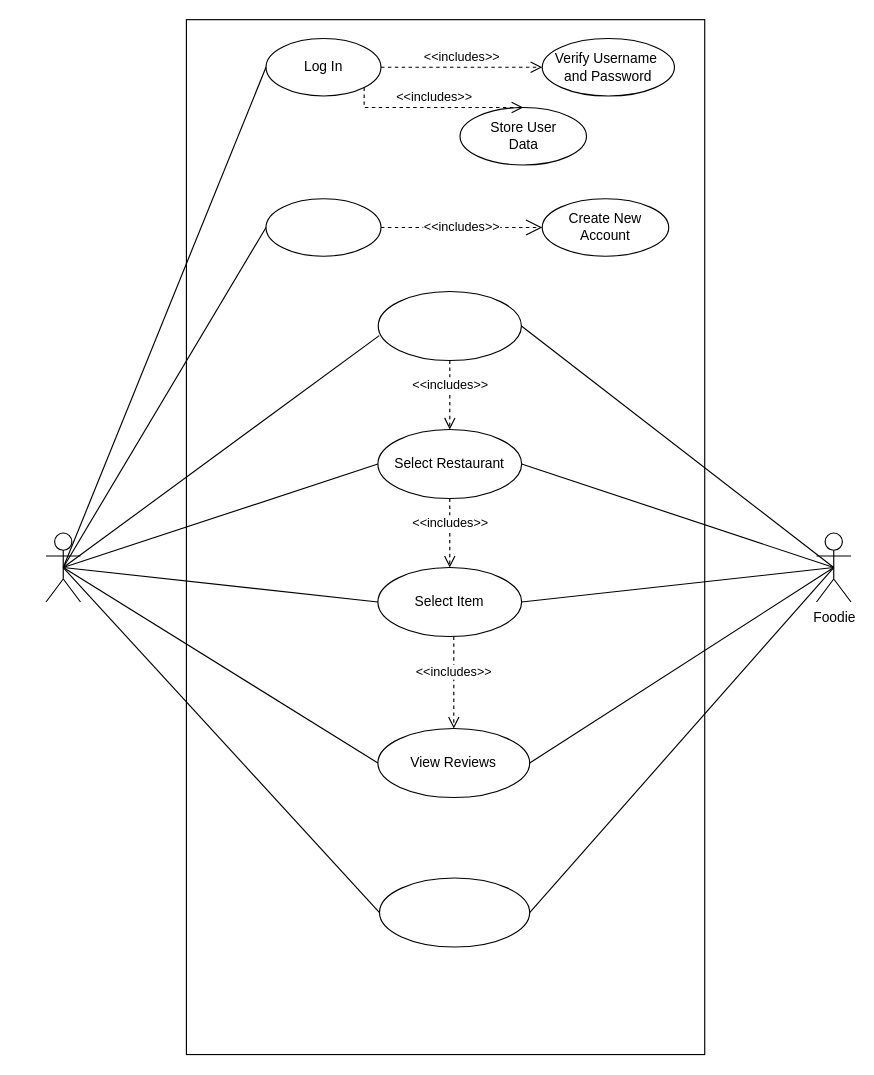
This 874x1075 diagram has some shape labels left out. The shapes that lost their labels are listed below. From the top down, each one's centre as x and y in pixels, then its label:
pixel 323 227: Sign Up
pixel 449 325: View Restaurants
pixel 62 567: Program User
pixel 454 912: Write Review
